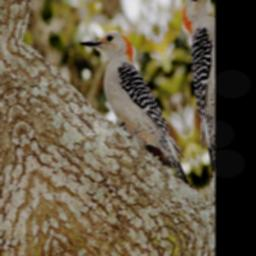Woodpecker: (75, 3, 201, 223)
